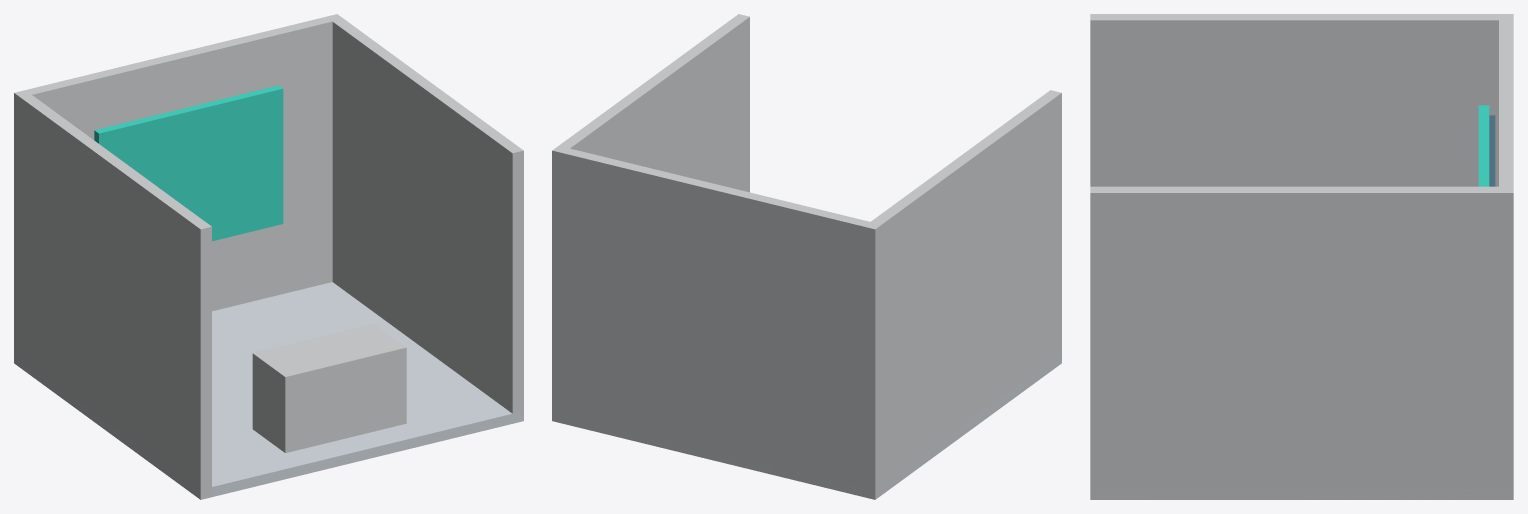
The picture shows the model from 3 angles, left to right: view 1: azimuth 30°, elevation 25°; view 2: azimuth 150°, elevation 25°; view 3: azimuth 270°, elevation 25°; orthographic projection. The views are drawn at different scales.
Parts seen in each view (by area): view 1: Exhibition Booth Concept; view 2: Exhibition Booth Concept; view 3: Exhibition Booth Concept.
Boxes of the visible parts, left/top/right/bottom form: Exhibition Booth Concept: left=14, top=14, right=523, bottom=499; Exhibition Booth Concept: left=552, top=14, right=1061, bottom=499; Exhibition Booth Concept: left=1090, top=14, right=1513, bottom=499.
Size of the model in its own units: 4 by 3.2 by 4.
